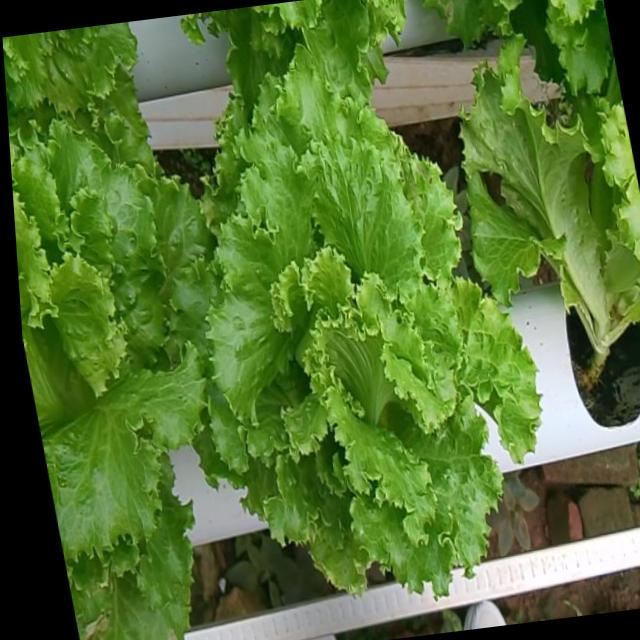Mature: (199, 82, 540, 612), (12, 133, 213, 580)
